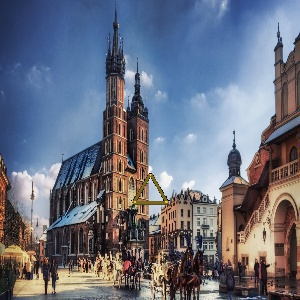triangle: (129, 172, 173, 207)
